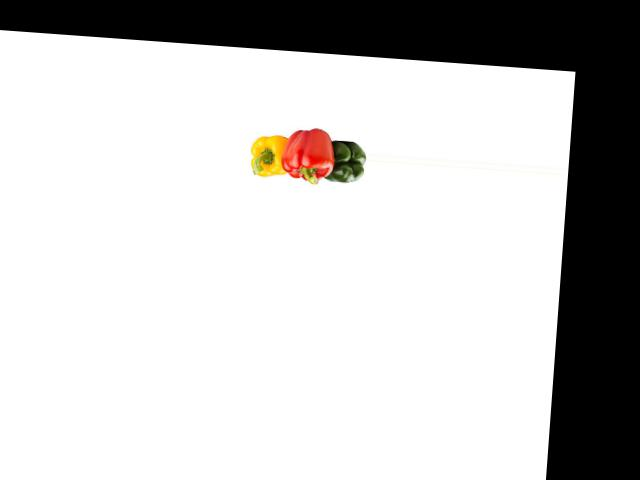bell_pepper: (246, 125, 293, 183)
